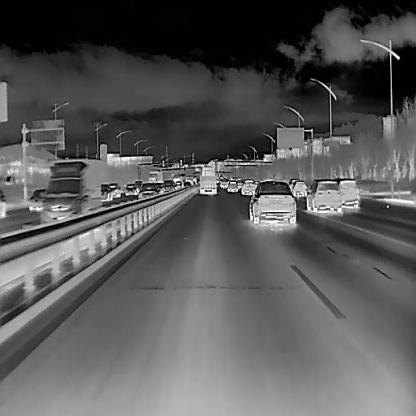car: (247, 179, 298, 223), (305, 176, 342, 214), (336, 176, 360, 208), (25, 187, 50, 211), (138, 181, 157, 203), (238, 179, 257, 195), (99, 182, 112, 203), (292, 180, 308, 196), (108, 180, 121, 198), (163, 177, 176, 193), (225, 180, 238, 192), (124, 180, 134, 195), (173, 178, 182, 192), (181, 179, 191, 191), (219, 178, 228, 188)
truck: (42, 156, 102, 224), (198, 166, 217, 194), (146, 168, 164, 184)
